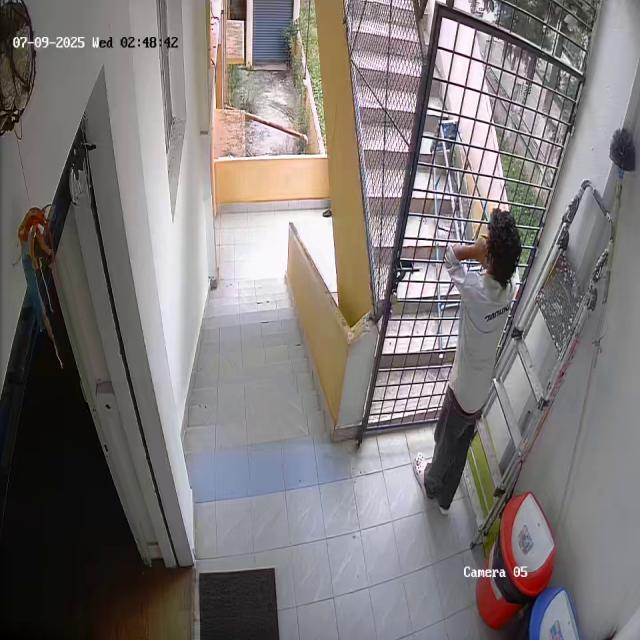person: (416, 203, 517, 512)
